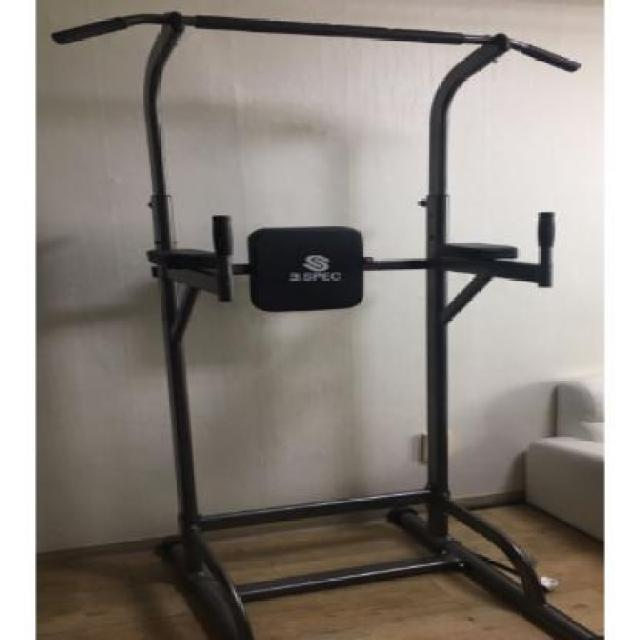chinning dipping: (52, 12, 580, 620)
